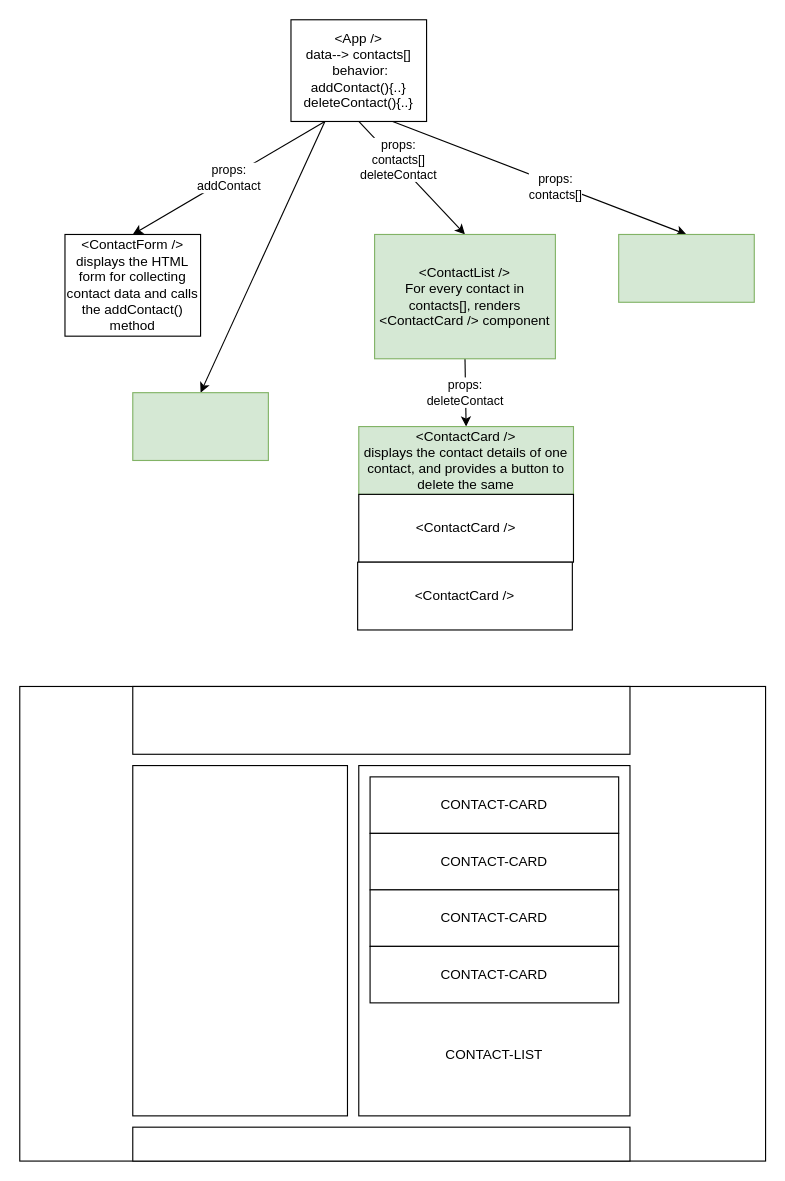
Some shapes in this 785 by 1181 pixel diagram are drawn without their labels. The shapes that lost their labels are listed below. From the top down, each one's centre as x and y in pixels, then its label:
point (686, 267): <Header /> displays the count of contacts in the addressbook
point (200, 426): <Footer />
point (381, 719): HEADER
point (239, 940): CONTACT-FORM
point (381, 1143): FOOTER
